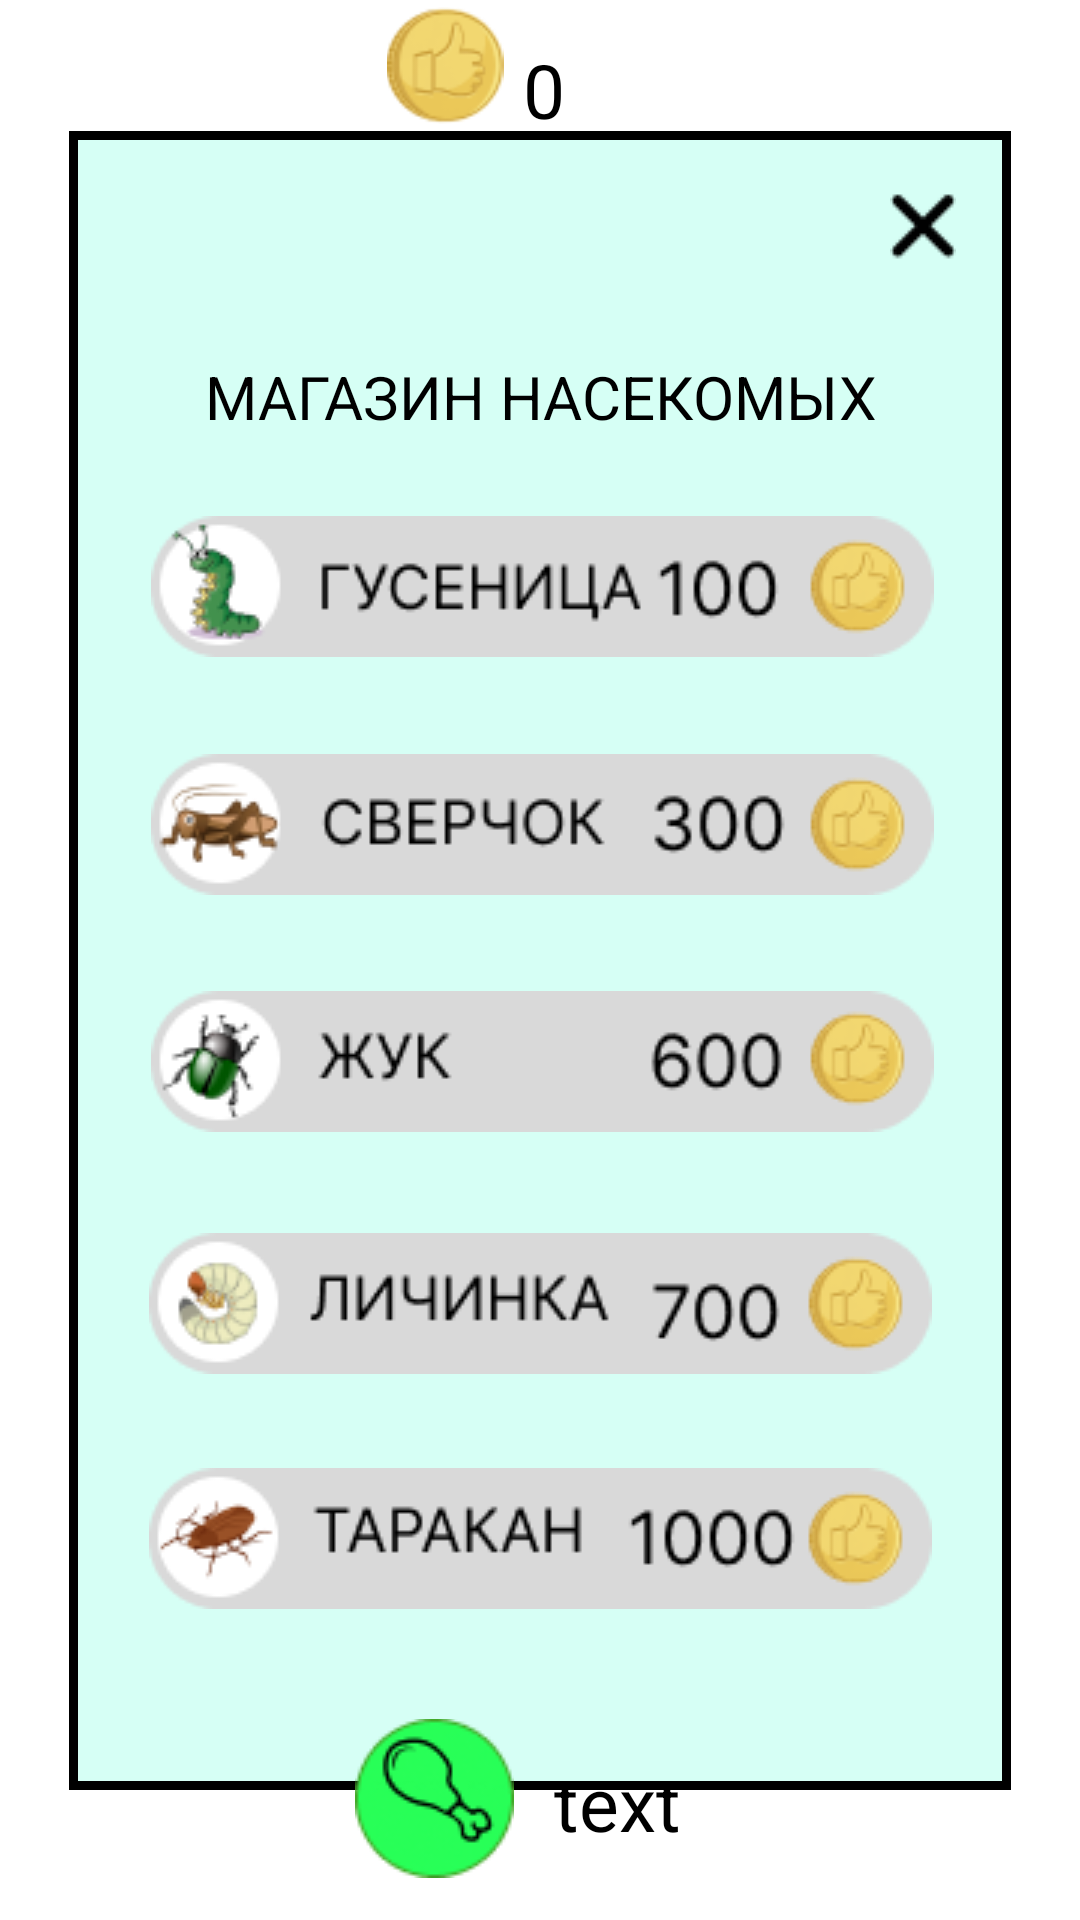

Icons on this 1080px×1920px Android screen, each with the point to tap as (x=x, y=y):
coin: (x=445, y=65)
eat: (x=438, y=1795)
exit: (x=923, y=226)
